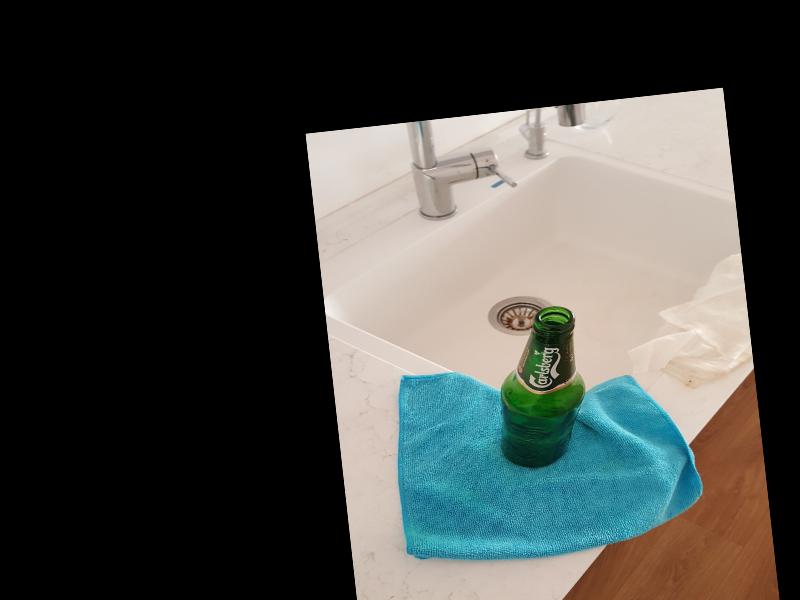Beer: (489, 305, 594, 473)
